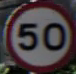Speed limit: (5, 1, 68, 68)
